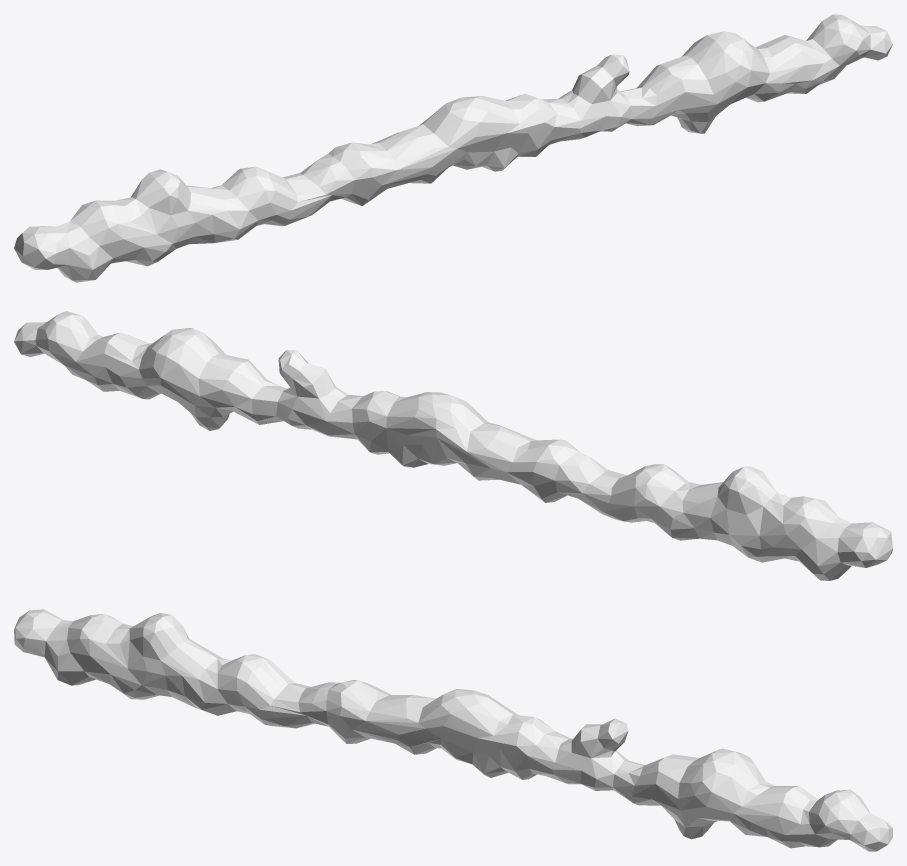
File: big_cloud_10.fbx
3 renders of one model, top to bottom at view 1: azimuth 30°, elevation 25°; view 2: azimuth 150°, elevation 25°; view 3: azimuth 330°, elevation 25°, orthographic.
Visible parts, largest first — view 1: cloud_50; view 2: cloud_50; view 3: cloud_50.
Part boxes in pixels (left/top/right/bottom): cloud_50: left=14, top=14, right=892, bottom=282; cloud_50: left=14, top=311, right=892, bottom=580; cloud_50: left=14, top=609, right=892, bottom=851.
Bounding box in the file's own units: 5191 × 540 × 429.
